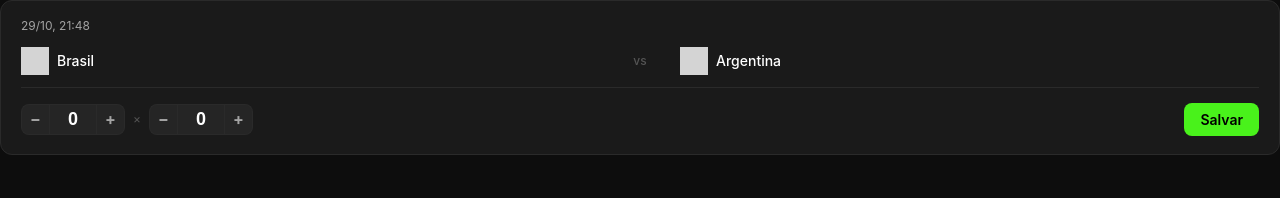
MatchCard – Error state › shows generic error message if api fails without error description
Click the button named "Aumentar placar Brasil".
click(111, 119)  # box left=97, top=104, right=125, bottom=134
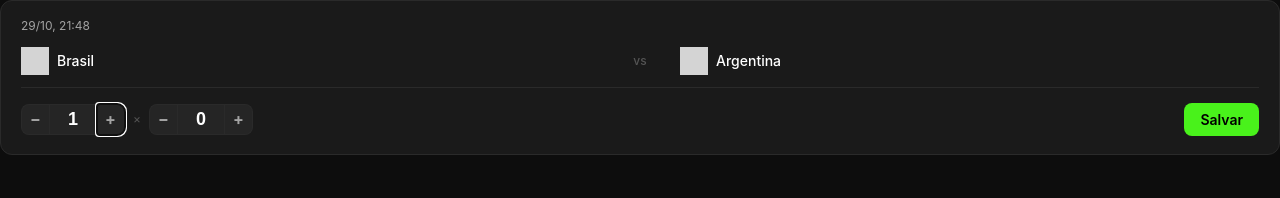
Click the button "Salvar".
click(1222, 119)  # box left=1184, top=102, right=1259, bottom=136
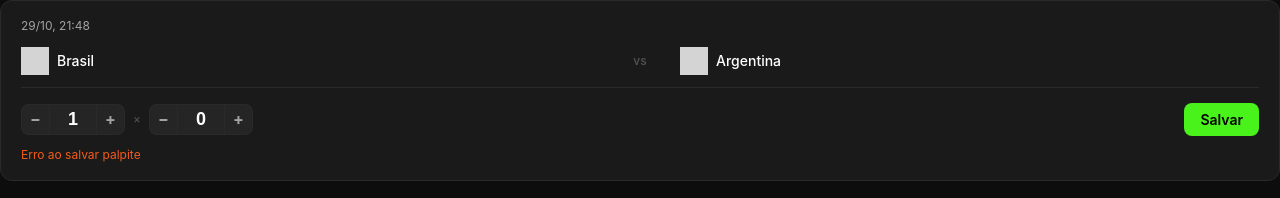
Expected: the text "Erro ao salvar palpite" is shown, left=21, top=147, right=141, bottom=162
